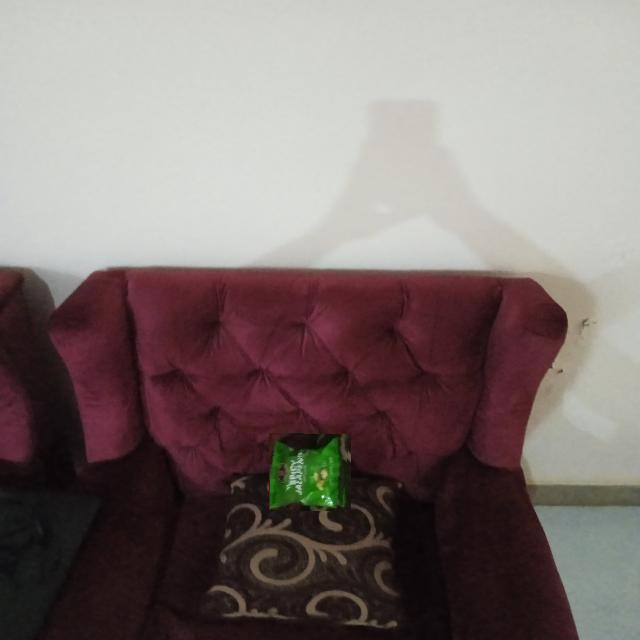Plastic: (270, 431, 350, 511)
